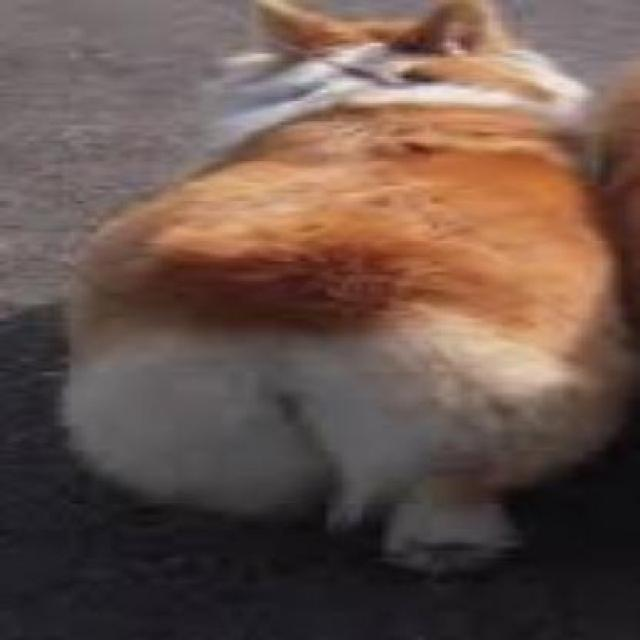Dog: (60, 1, 638, 588)
